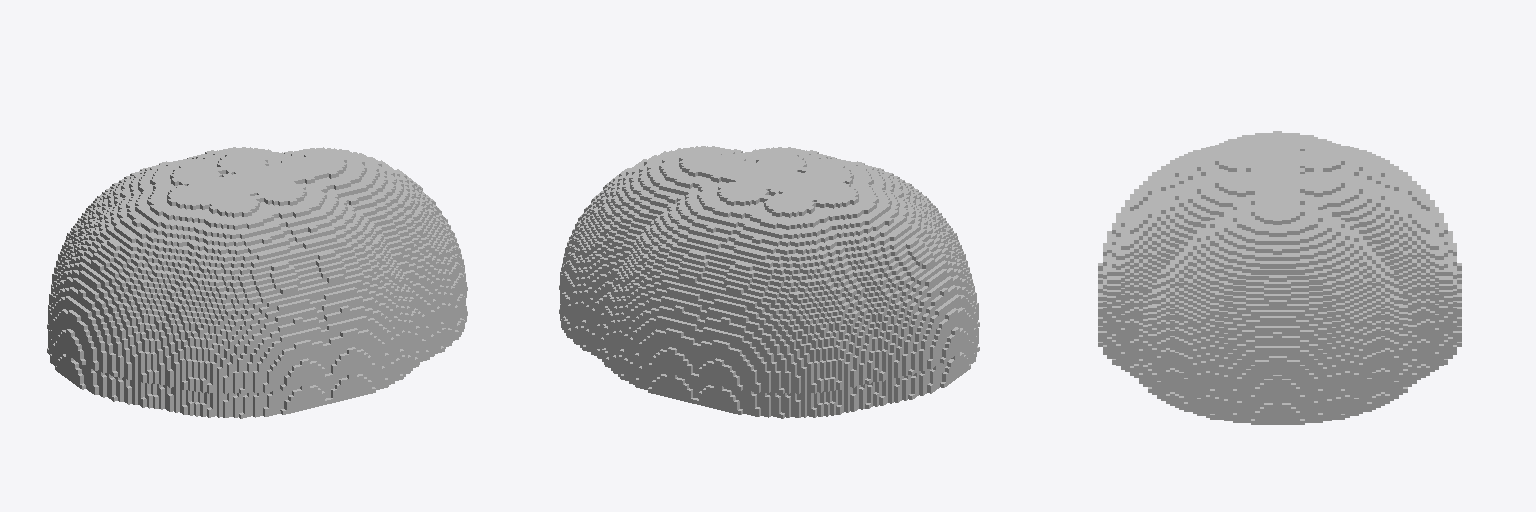
The model's file is BaseDePizza.obj.
3 renders of one model, left to right at view 1: azimuth 30°, elevation 25°; view 2: azimuth 150°, elevation 25°; view 3: azimuth 270°, elevation 25°, orthographic.
Parts seen in each view (by area): view 1: object 1; view 2: object 1; view 3: object 1.
Part boxes in pixels (x1,y1,x2,y2): object 1: (47, 147, 467, 418); object 1: (559, 146, 979, 418); object 1: (1098, 131, 1461, 424).
Bounding box in the file's own units: 9.7 × 3.8 × 8.1.